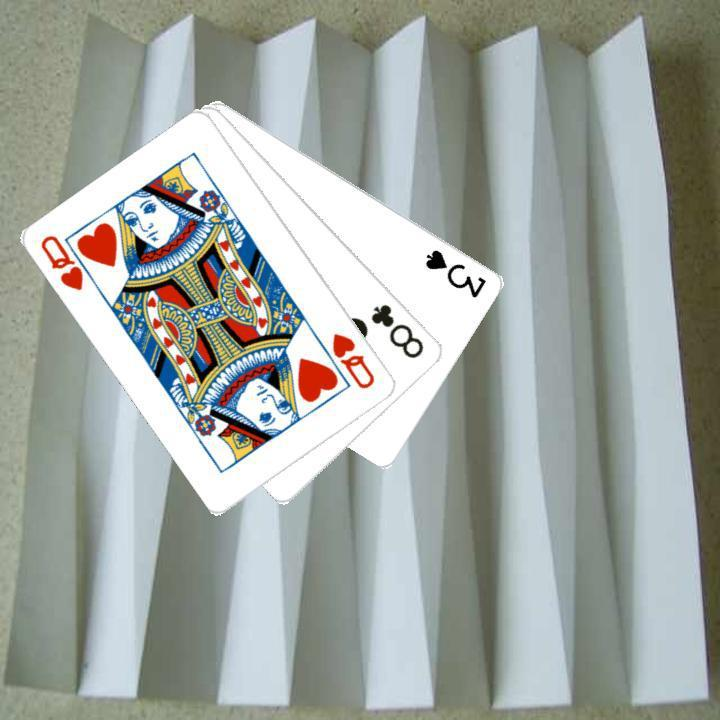3: (421, 245, 489, 300)
8: (367, 299, 426, 361)
Q: (36, 230, 102, 293), (328, 328, 378, 392)
